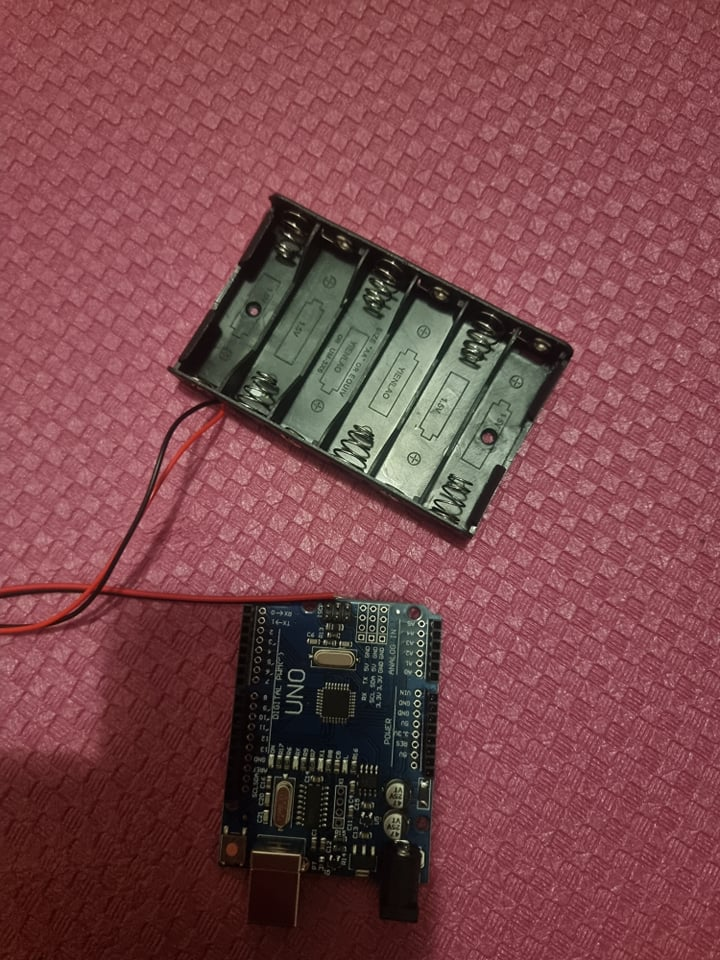BATTERY BOX: (171, 190, 574, 542)
UNO R3: (219, 596, 443, 942)
